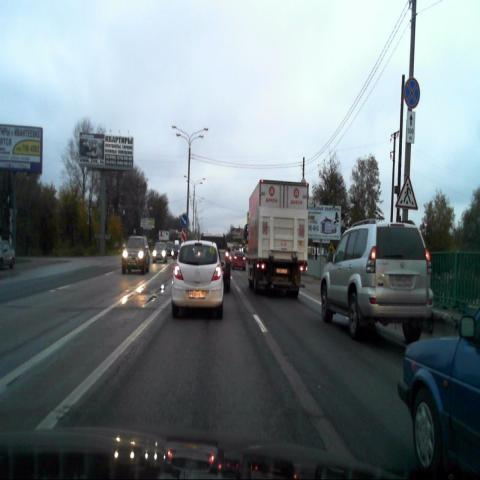8_2_2: (406, 111, 415, 144)
